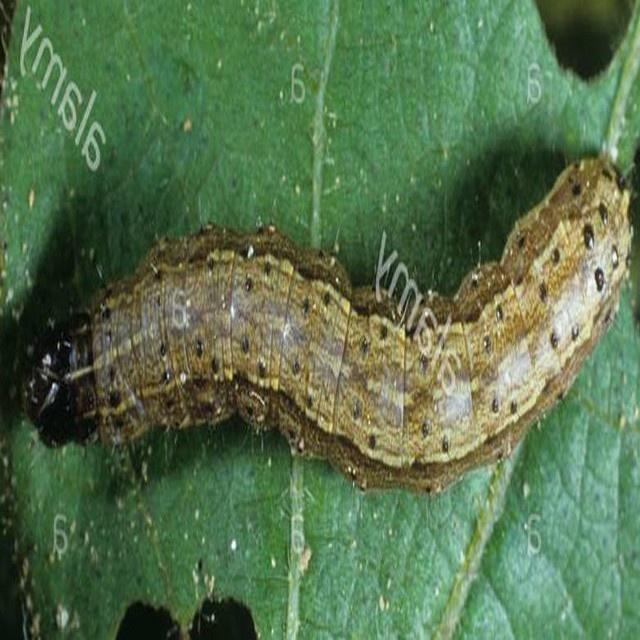gusano_cogollero: (0, 150, 640, 499)
